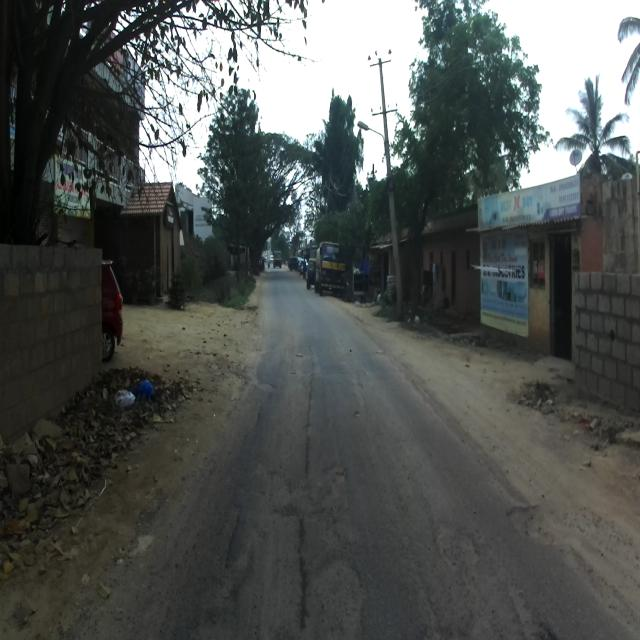electric pole ahead at: (368, 40, 410, 318)
